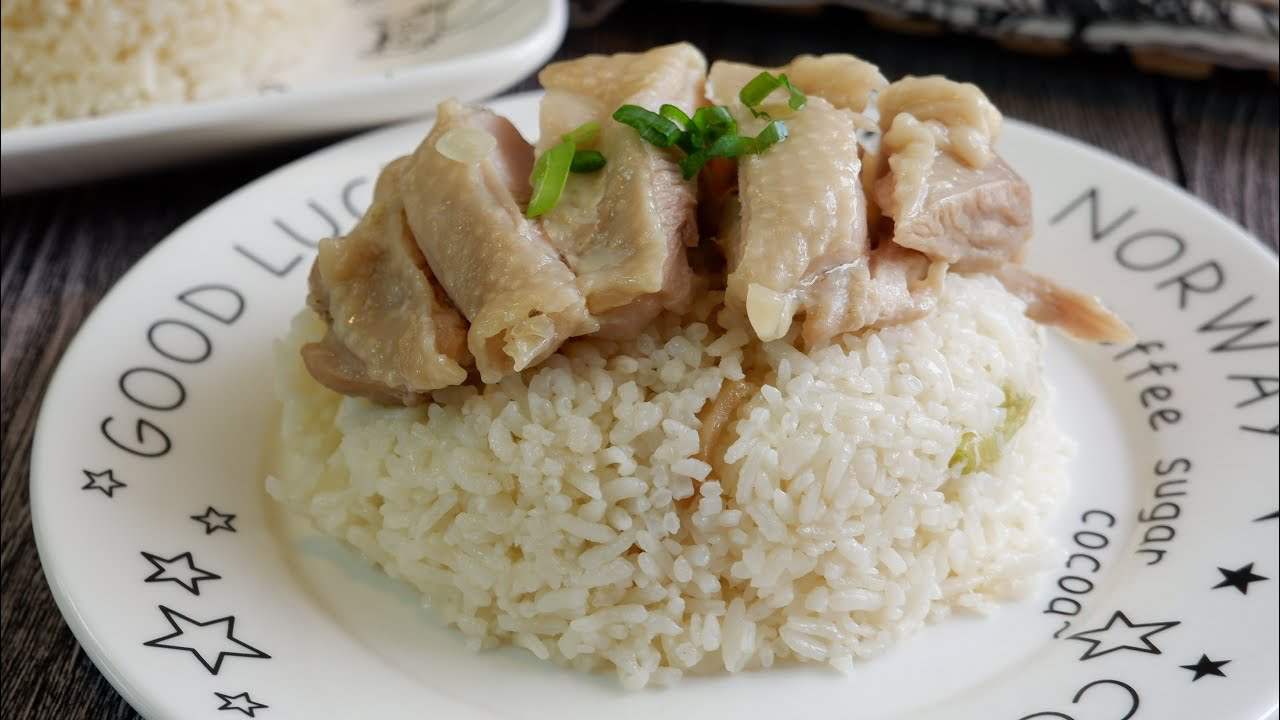Steamed Chicken Rice: (272, 43, 1123, 687)
